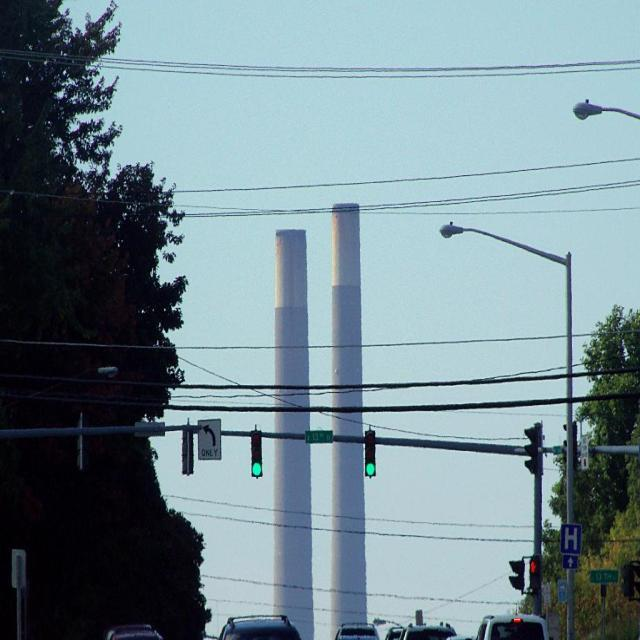off traffic light: (525, 425, 538, 471), (510, 560, 523, 588)
traffic light: (250, 433, 263, 478), (365, 429, 376, 473), (529, 557, 541, 589)
